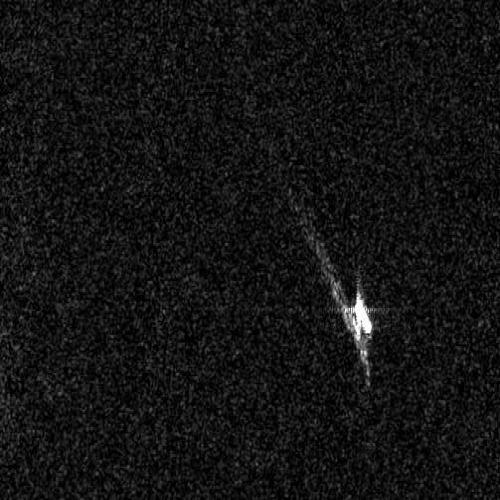ship: (354, 295, 373, 336)
